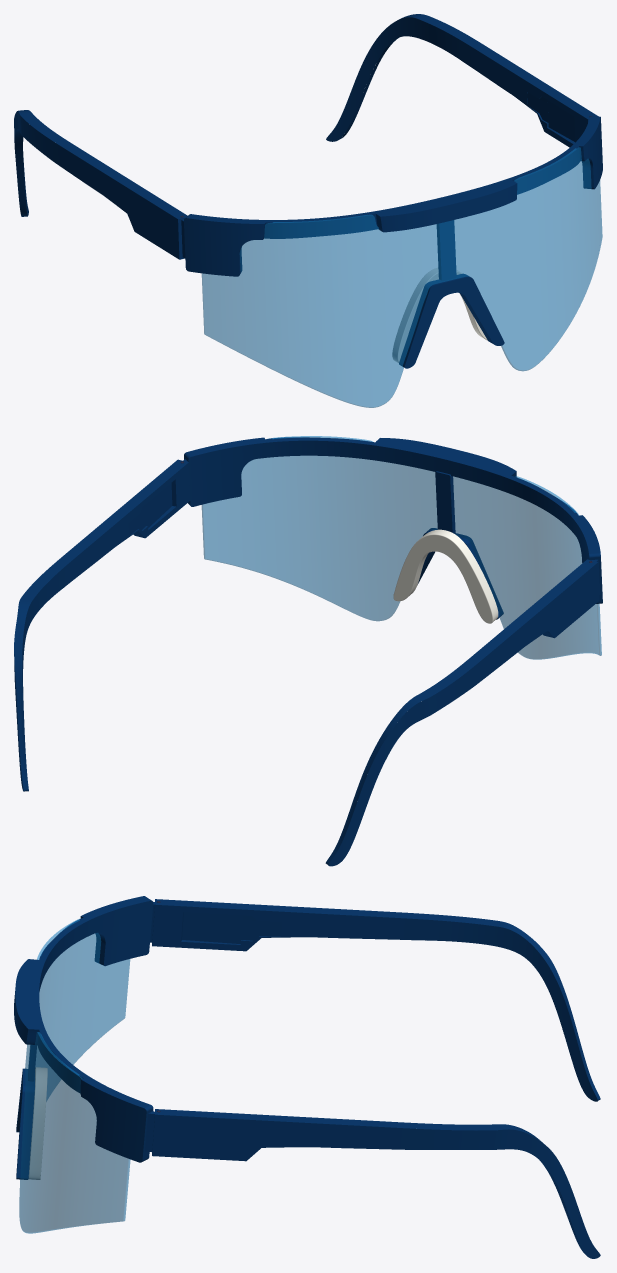
The model's file is niccolocasanova.glb.
3 views of the same model, one above another, from view 1: azimuth 30°, elevation 25°; view 2: azimuth 150°, elevation 25°; view 3: azimuth 270°, elevation 25° (orthographic). The views are drawn at different scales.
Parts seen in each view (by area): view 1: Occhiali1, Stanghette 2.0; view 2: Occhiali1, Stanghette 2.0; view 3: Occhiali1, Stanghette 2.0.
Boxes of the visible parts, x1,y1,x2,y2 form: Occhiali1: (180, 116, 602, 407); Stanghette 2.0: (14, 14, 598, 259); Occhiali1: (180, 436, 602, 659); Stanghette 2.0: (14, 459, 599, 866); Occhiali1: (14, 896, 160, 1233); Stanghette 2.0: (152, 899, 600, 1258).
Bounding box in the file's own units: 0.2883 × 0.123 × 0.3328.
